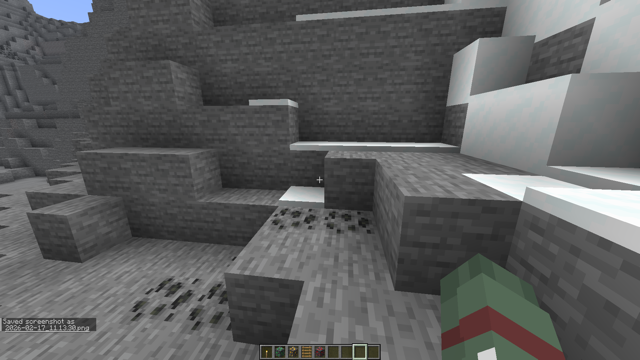coal: (129, 271, 235, 329), (269, 201, 380, 240)
